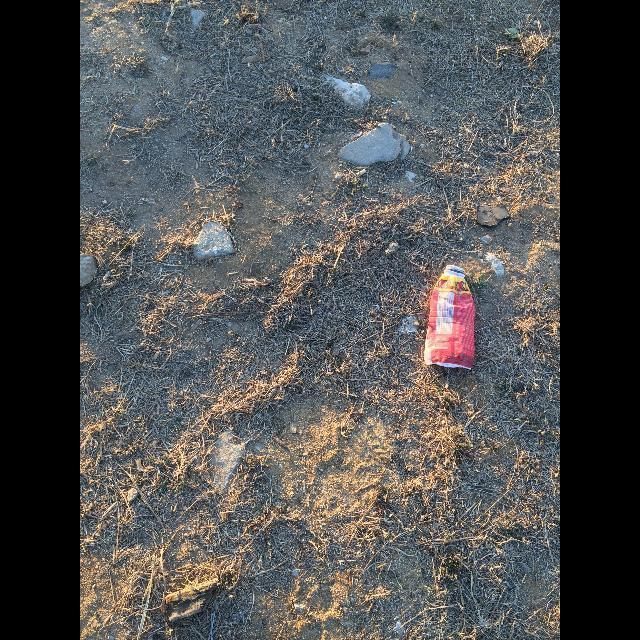Plastic: (424, 265, 476, 369), (210, 611, 216, 639)
